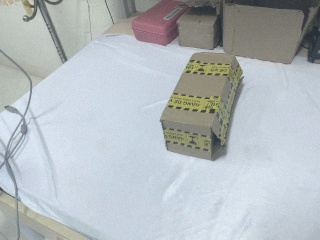box: (161, 53, 243, 161), (223, 1, 320, 63), (176, 5, 221, 50)
